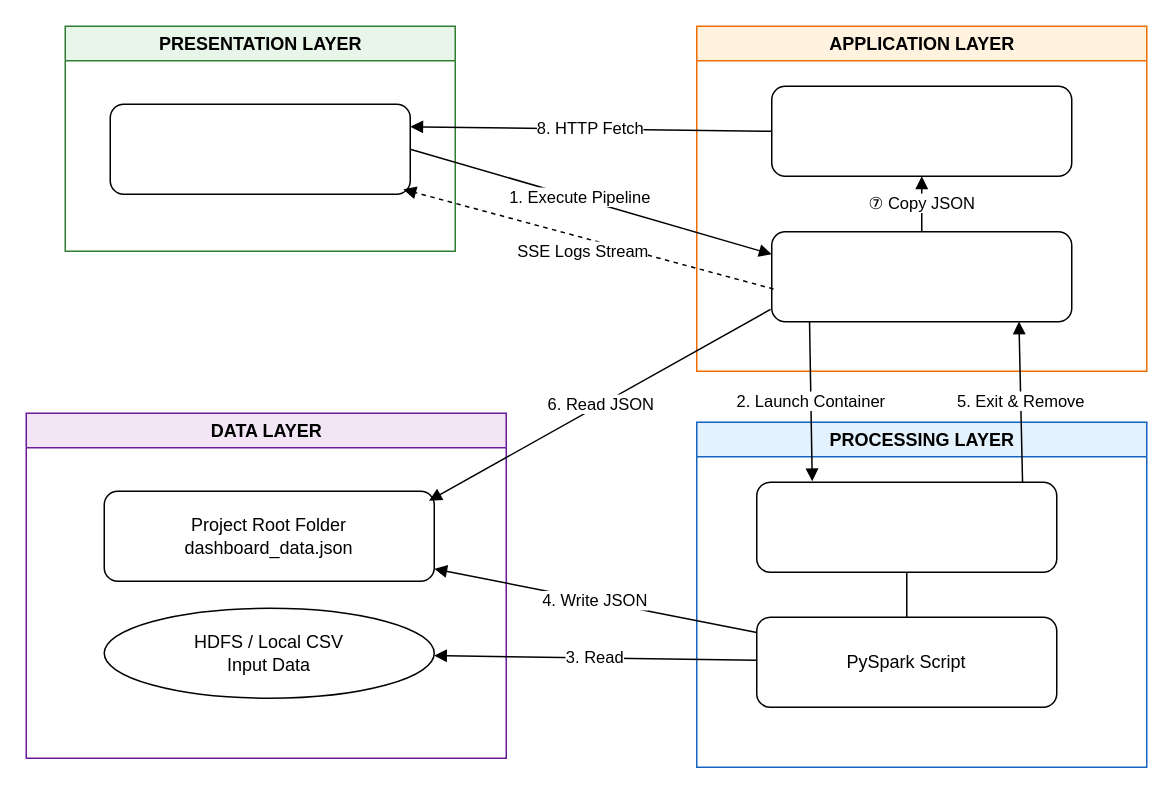
Some shapes in this 1173 by 794 pixel diagram are drawn without their labels. The centre of each missing label's shape, as x and y in pixels:
"API Server" goes at (x=921, y=276).
"Docker Container" goes at (x=906, y=526).
"Public Folder Static Files" goes at (x=921, y=130).
"Web Browser" goes at (x=259, y=148).
